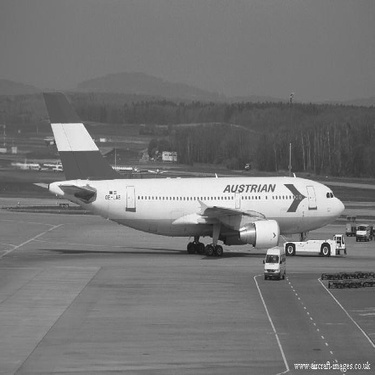airplane: (21, 84, 350, 263)
